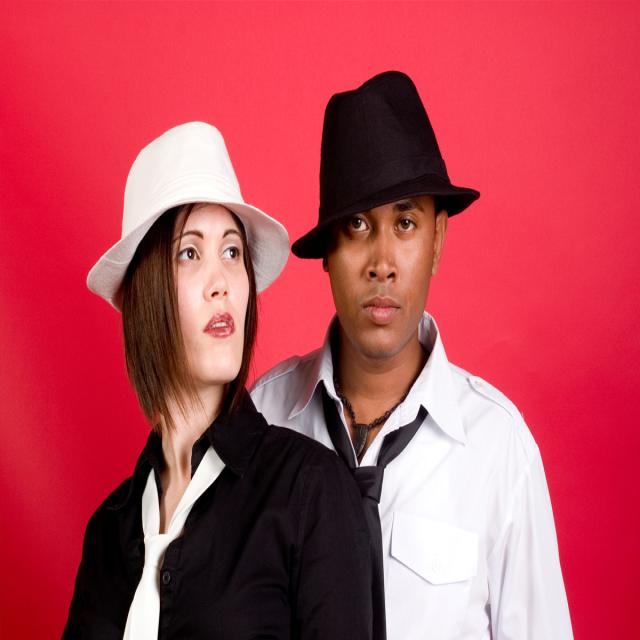hat: (85, 123, 289, 386), (292, 70, 478, 358)
